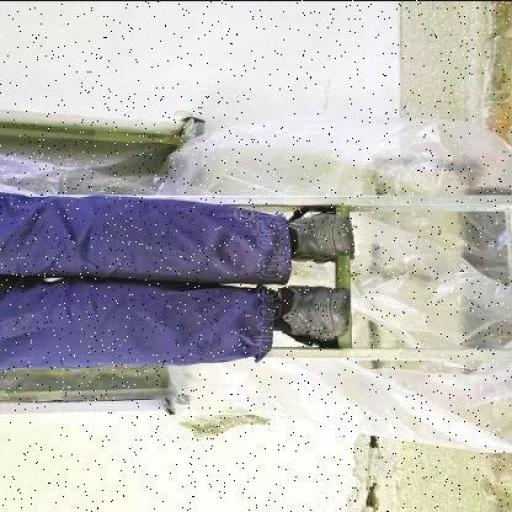safety_shoe: (280, 282, 353, 347), (288, 209, 352, 266)
